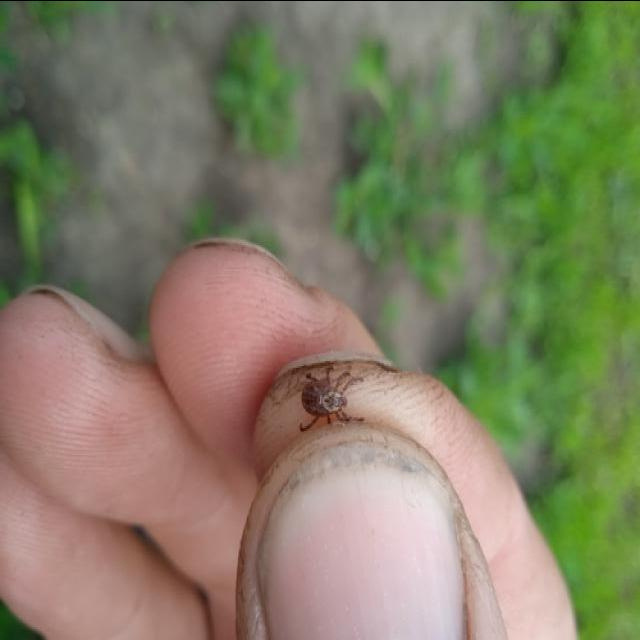Dermacentor Reticulatus-F: (298, 367, 364, 430)
